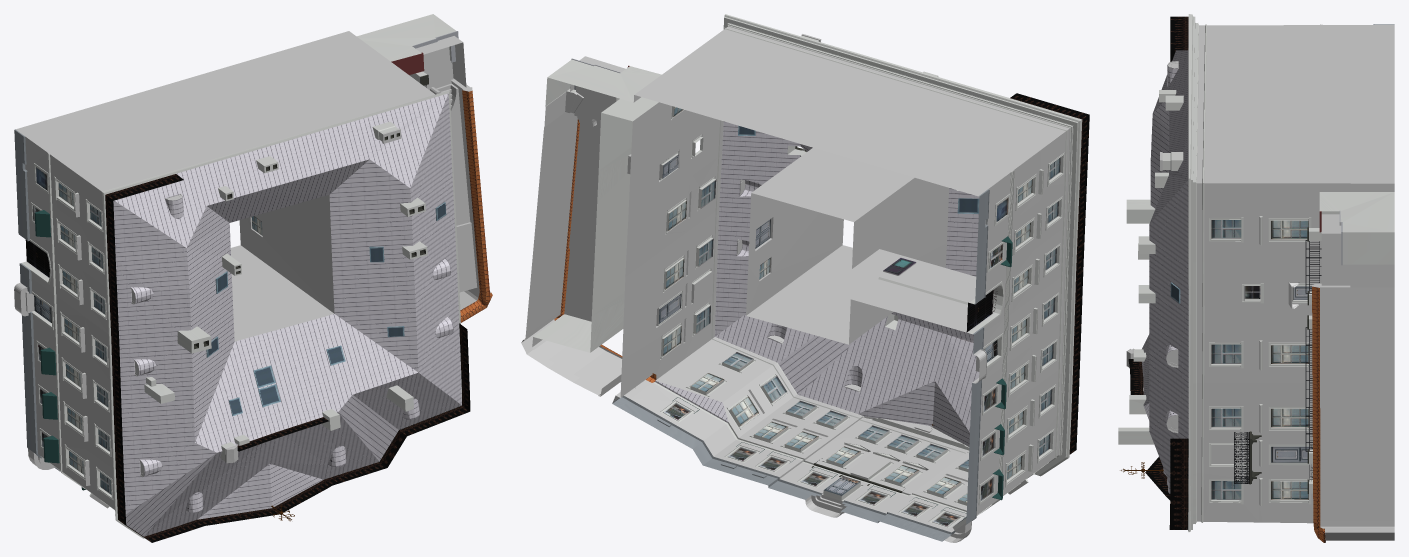
File: Uus2.obj
3 views of the same model, side by side, from view 1: azimuth 30°, elevation 25°; view 2: azimuth 150°, elevation 25°; view 3: azimuth 270°, elevation 25° (orthographic). The views are drawn at different scales.
Parts seen in each view (by area): view 1: sein; view 2: sein; view 3: sein.
Part boxes in pixels (box(x1,y1,x2,y2)): sein: box(14, 14, 492, 542); sein: box(521, 14, 1089, 542); sein: box(1118, 14, 1394, 542).
Size of the model in its own units: 35.59 by 28.44 by 17.36.
